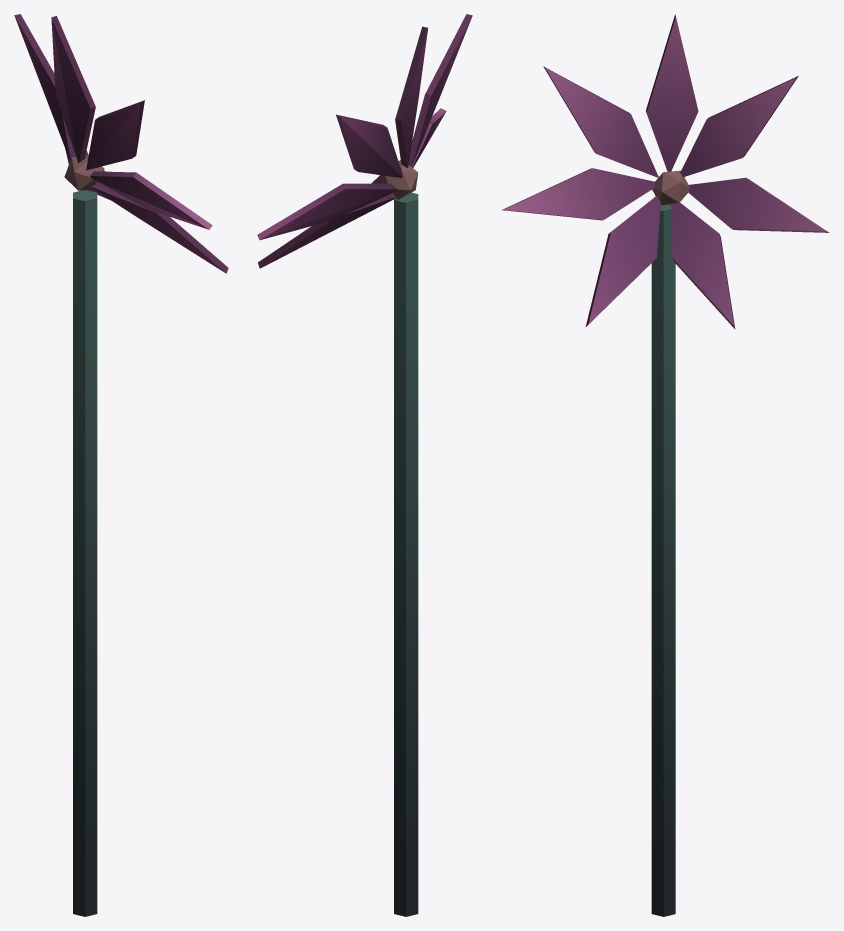
The model's file is Flor 1.obj.
The picture shows the model from 3 angles, left to right: view 1: azimuth 30°, elevation 25°; view 2: azimuth 150°, elevation 25°; view 3: azimuth 270°, elevation 25°; orthographic projection.
Parts seen in each view (by area): view 1: Flor 1; view 2: Flor 1; view 3: Flor 1.
Part boxes in pixels (bbox=[...]): Flor 1: bbox=[14, 14, 228, 916]; Flor 1: bbox=[257, 14, 472, 916]; Flor 1: bbox=[501, 14, 829, 916].
Size of the model in its own units: 0.1265 by 0.7682 by 0.2587.
Materials: 1 (1 with a texture image).
